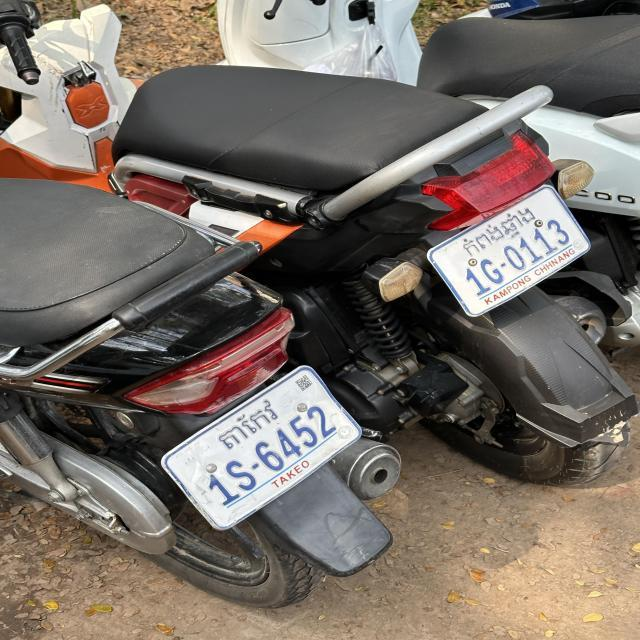Kampong_Chhnang: (461, 205, 536, 258)
Takeo: (214, 394, 279, 452)
